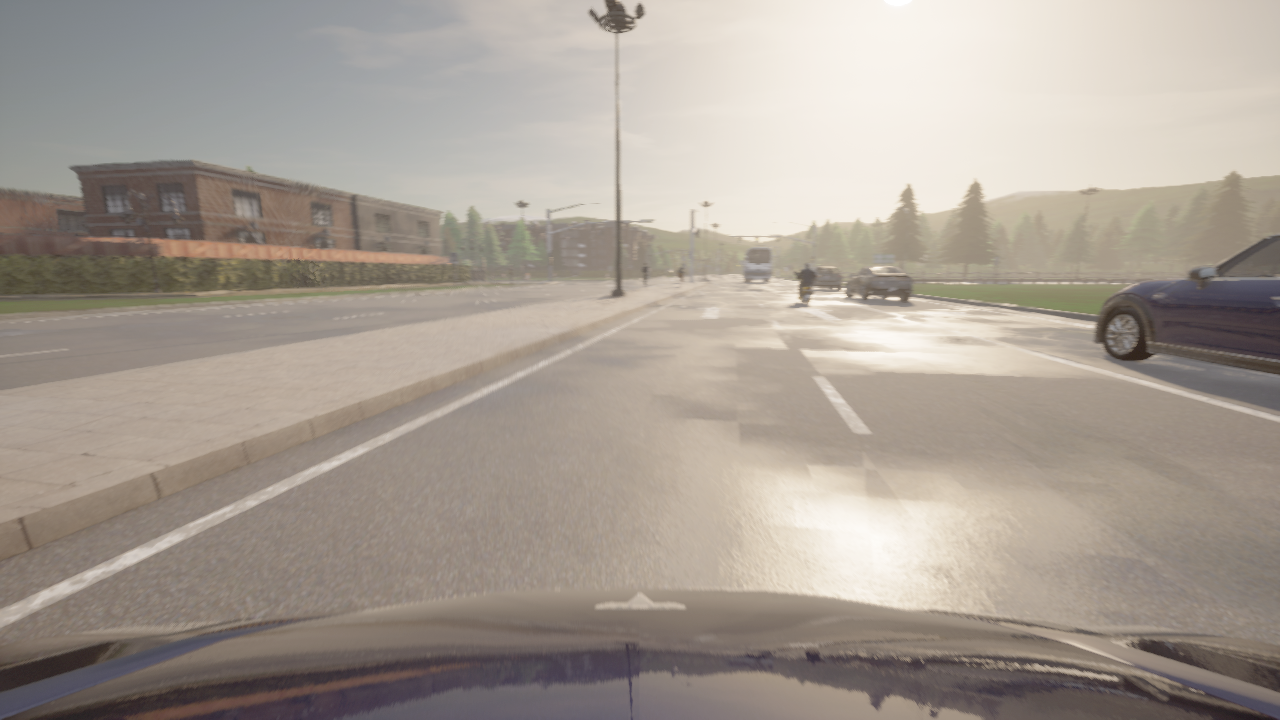cyclist: (0, 588, 1279, 719), (1094, 233, 1279, 375), (845, 266, 911, 301), (741, 248, 771, 282), (812, 266, 841, 290), (795, 273, 816, 304), (811, 267, 842, 280)
pedestrian: (640, 263, 648, 287), (678, 264, 685, 287), (508, 265, 511, 282)
